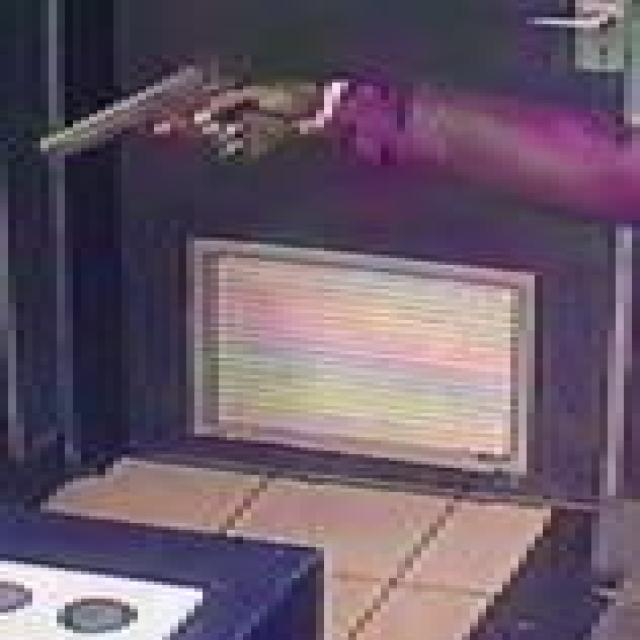Guns: (2, 16, 403, 185)
